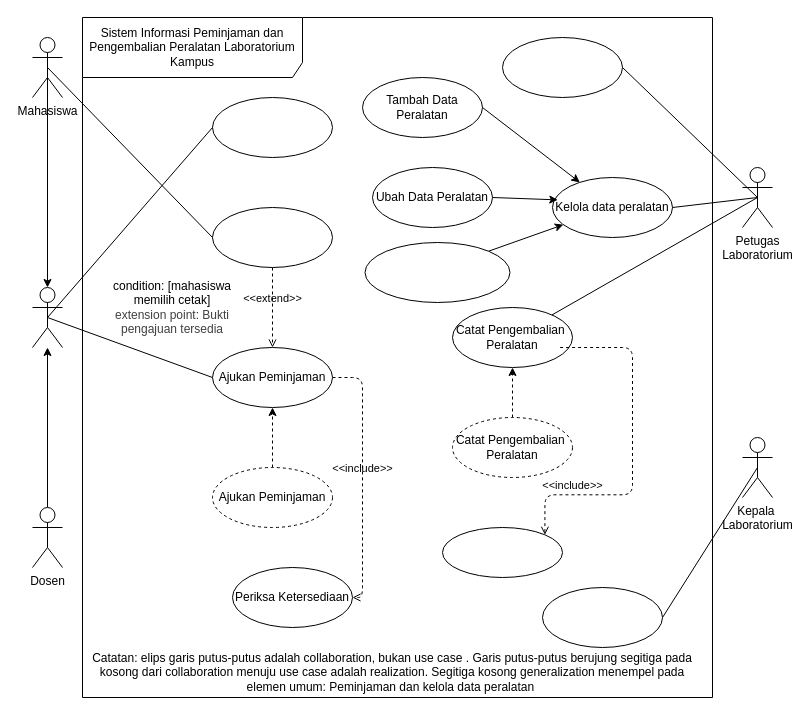
This 810x715 diagram has some shape labels left out. The centre of each missing label's shape, as x and y in pixels:
"Cetak bukti pengajuan" belongs at point (272, 237).
"Hapus Data Peralatan" belongs at point (437, 272).
"LIhat Ketersediaan peralatan" belongs at point (272, 127).
"Lihat laporan peminjaman" belongs at point (602, 617).
"Peminjam" belongs at point (47, 317).
"Periksa Kondisi Peralatan" belongs at point (502, 552).
"Proses keputusan peminjaman" belongs at point (562, 67).
